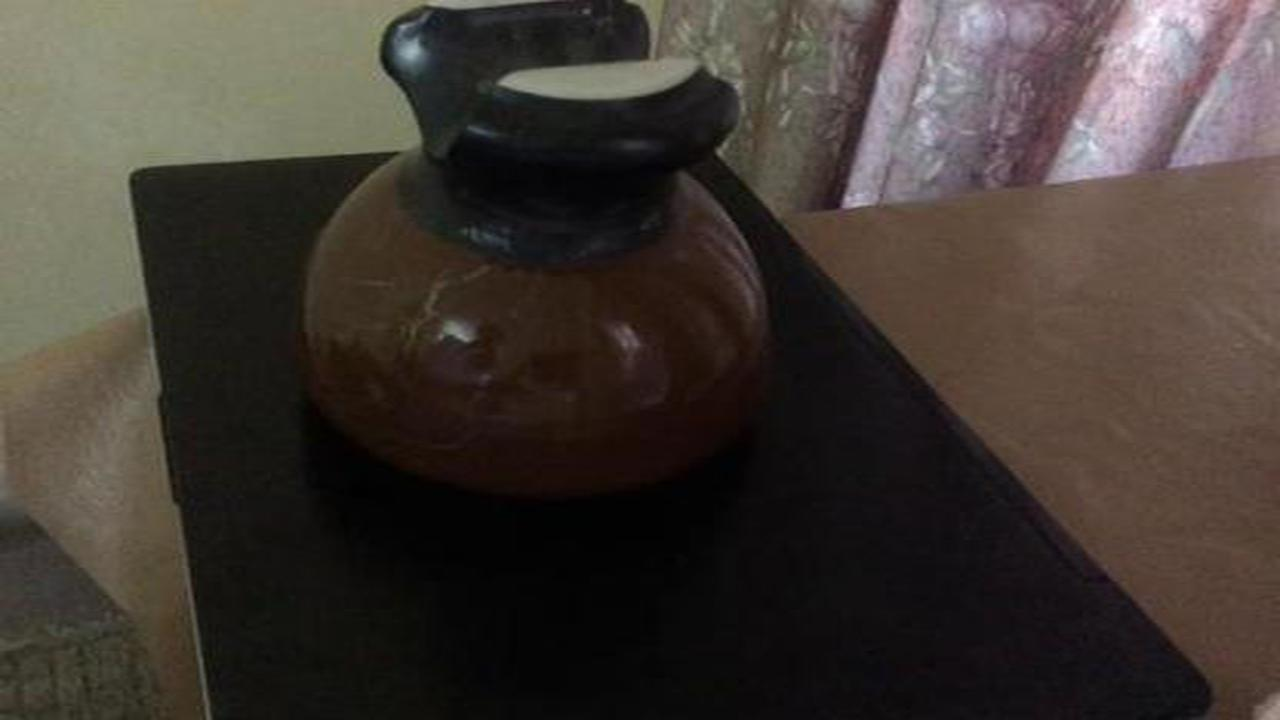insulator_pin: (276, 14, 785, 527)
